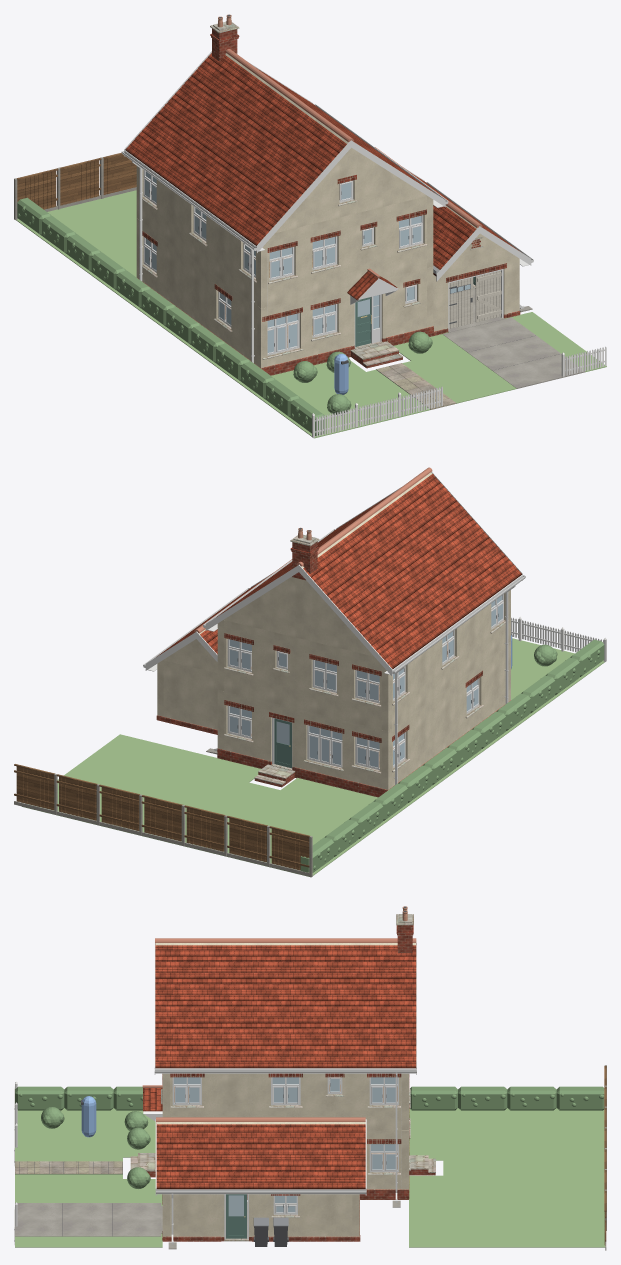
The model's file is building_assembled.glb.
3 views of the same model, one above another, from view 1: azimuth 30°, elevation 25°; view 2: azimuth 150°, elevation 25°; view 3: azimuth 270°, elevation 25° (orthographic).
Visible parts, largest first — view 1: geometry_588, geometry_593, geometry_244, geometry_313, geometry_297, geometry_589, geometry_309, geometry_305, geometry_301, geometry_326, geometry_147, geometry_131 (+49 smaller); view 2: geometry_589, geometry_253, geometry_313, geometry_297, geometry_309, geometry_305, geometry_301, geometry_155, geometry_139, geometry_336, geometry_588, geometry_123 (+49 smaller); view 3: geometry_589, geometry_588, geometry_277, geometry_293, geometry_281, geometry_285, geometry_289, geometry_593, geometry_391, geometry_372, geometry_379, geometry_385 (+31 smaller).
Part boxes in pixels (x1,y1,x2,y2): geometry_588: [239, 312, 606, 438]; geometry_593: [442, 317, 585, 388]; geometry_244: [275, 147, 426, 233]; geometry_313: [228, 124, 346, 245]; geometry_297: [125, 53, 243, 170]; geometry_589: [16, 190, 136, 292]; geometry_309: [203, 105, 318, 225]; geometry_305: [179, 87, 293, 207]; geometry_301: [154, 69, 268, 188]; geometry_326: [433, 233, 513, 331]; geometry_147: [347, 205, 390, 287]; geometry_131: [304, 216, 347, 298]; geometry_589: [22, 734, 409, 876]; geometry_253: [224, 576, 373, 656]; geometry_313: [405, 474, 521, 594]; geometry_297: [303, 548, 419, 668]; geometry_309: [380, 494, 493, 612]; geometry_305: [355, 512, 469, 630]; geometry_301: [331, 530, 444, 648]; geometry_155: [260, 629, 302, 710]; geometry_139: [303, 639, 345, 720]; geometry_336: [163, 660, 199, 725]; geometry_588: [511, 638, 604, 714]; geometry_123: [345, 650, 381, 729]; geometry_589: [409, 1108, 605, 1247]; geometry_588: [15, 1108, 162, 1247]; geometry_277: [359, 943, 416, 1068]; geometry_293: [155, 943, 211, 1068]; geometry_281: [310, 945, 359, 1068]; geometry_285: [261, 945, 310, 1068]; geometry_289: [212, 945, 261, 1068]; geometry_593: [15, 1203, 161, 1236]; geometry_391: [156, 1122, 211, 1189]; geometry_372: [310, 1124, 365, 1189]; geometry_379: [261, 1124, 310, 1189]; geometry_385: [212, 1124, 261, 1189].
Size of the model in its own units: 14.02 by 11.19 by 24.1.
Materials: 31 (11 with a texture image).
